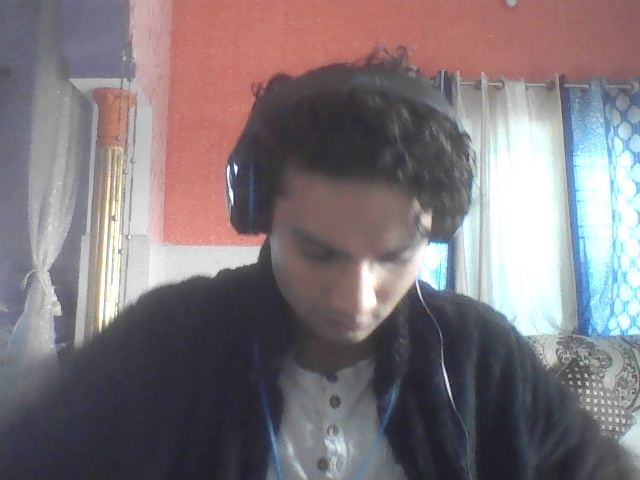real: (241, 101, 430, 369)
